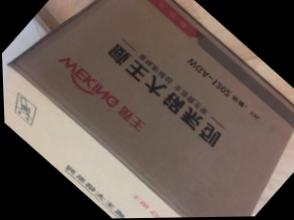cardboard: (3, 0, 293, 219)
